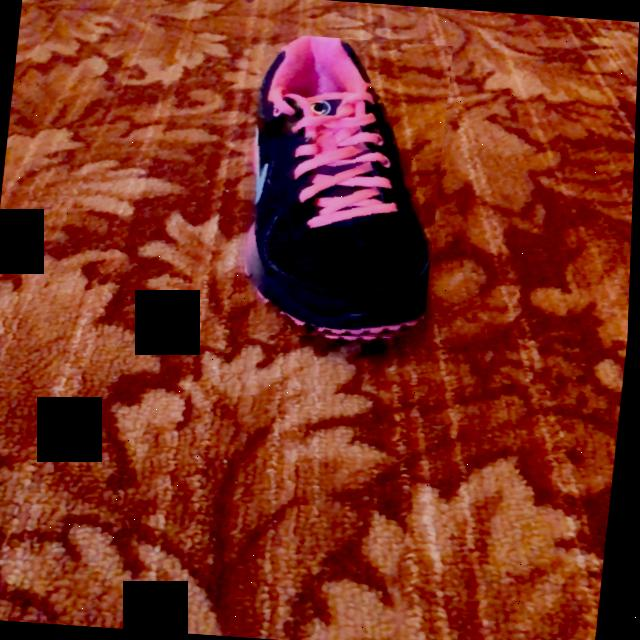shoe: (244, 35, 433, 337)
